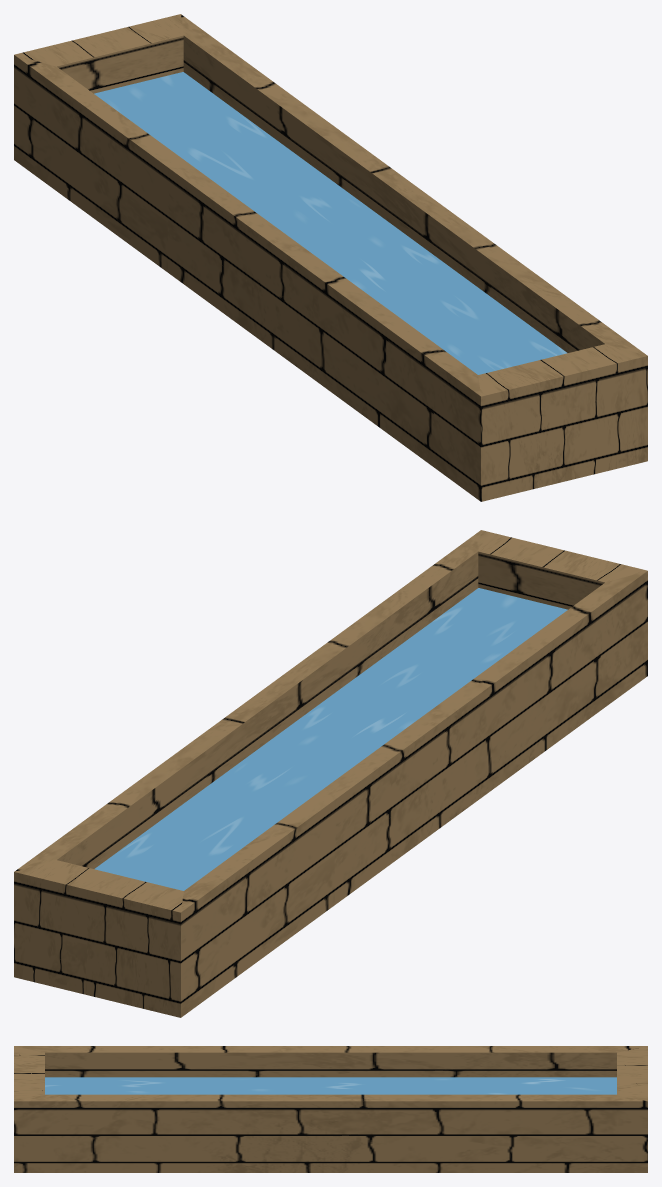
File: lavadero_total.fbx
The picture shows the model from 3 angles, top to bottom: view 1: azimuth 30°, elevation 25°; view 2: azimuth 150°, elevation 25°; view 3: azimuth 270°, elevation 25°; orthographic projection. The views are drawn at different scales.
Parts seen in each view (by area): view 1: Box001, Plane001; view 2: Box001, Plane001; view 3: Box001, Plane001.
Boxes of the visible parts, bbox=[...] form: Box001: bbox=[14, 14, 647, 501]; Plane001: bbox=[94, 72, 567, 374]; Box001: bbox=[14, 530, 647, 1017]; Plane001: bbox=[94, 588, 567, 890]; Box001: bbox=[14, 1046, 647, 1172]; Plane001: bbox=[45, 1077, 616, 1094].
Size of the model in its own units: 0.5 by 0.3016 by 2.42.
Materials: 2 (2 with a texture image).
